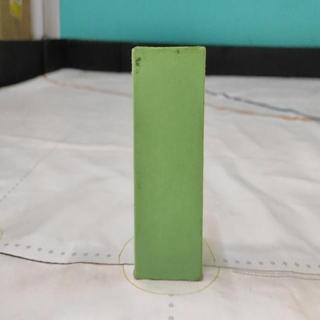greenbox: (132, 45, 205, 283)
